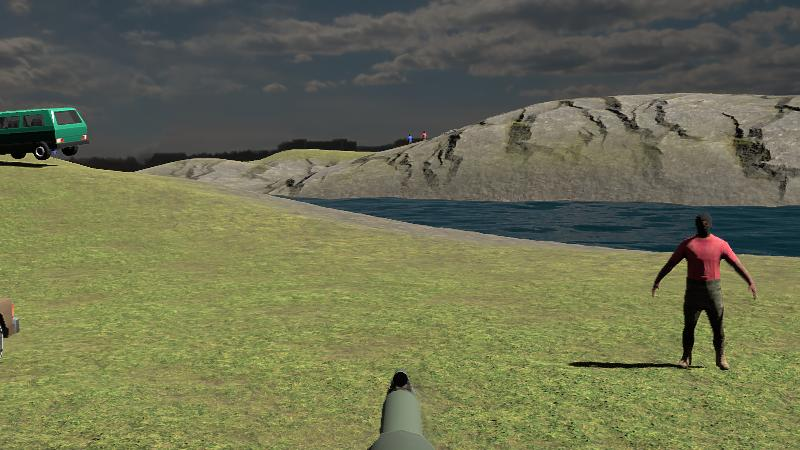Human: (651, 211, 756, 372)
car: (0, 107, 88, 161)
